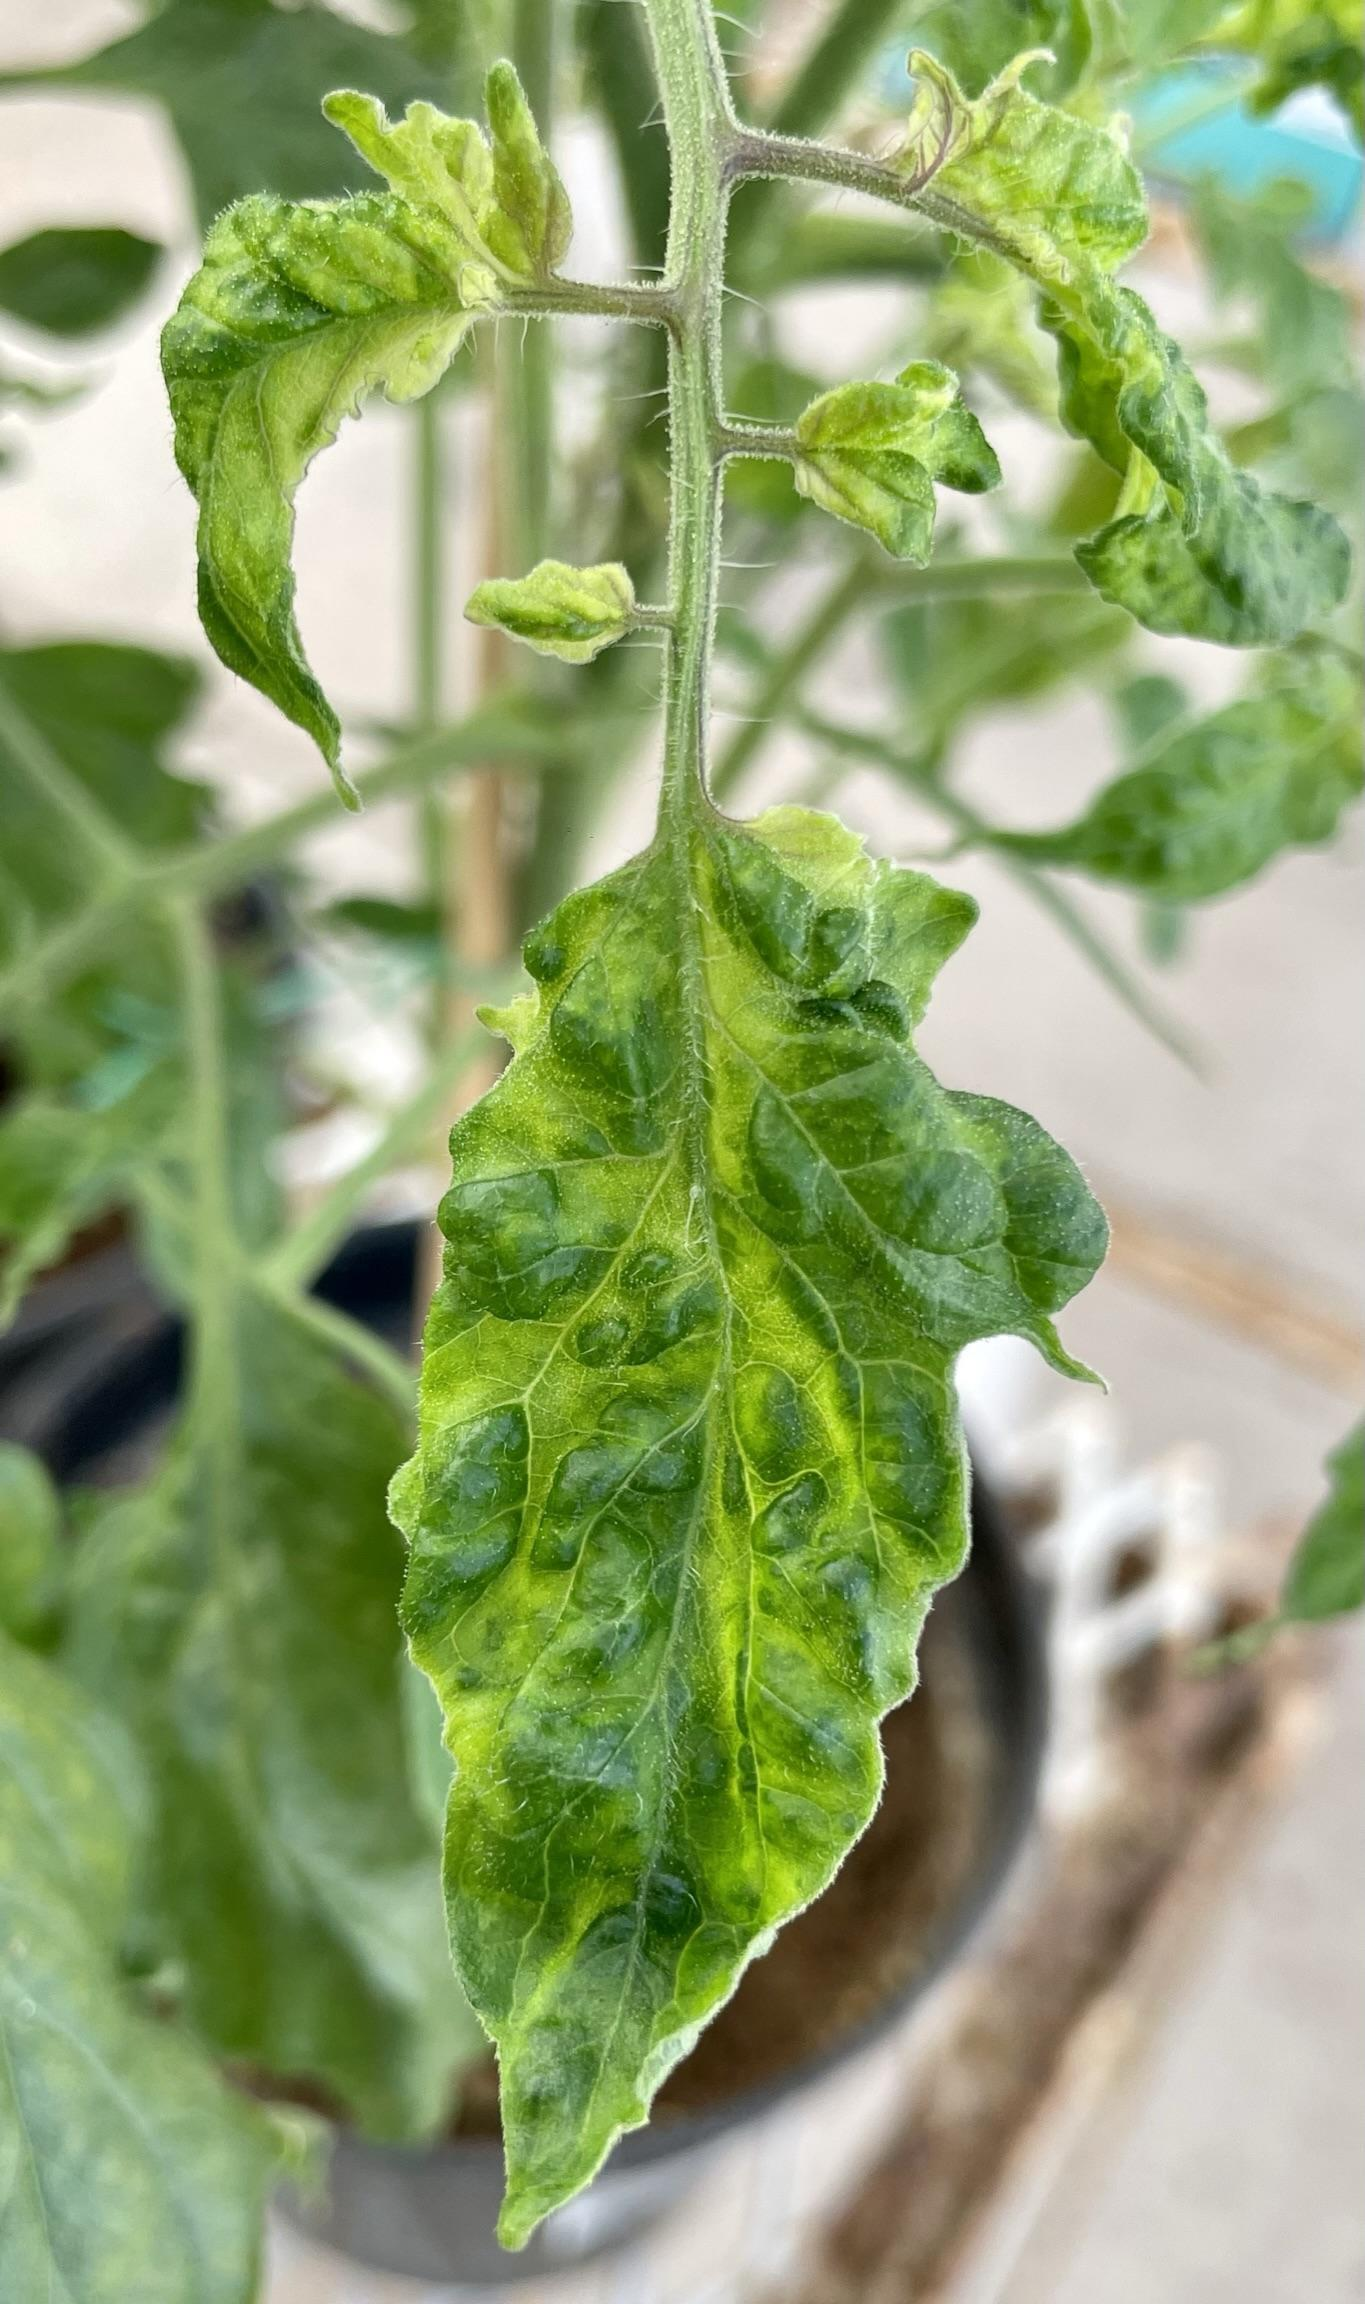Hoja rugoso: (387, 741, 1108, 2255), (154, 62, 570, 778), (1076, 346, 1350, 648), (887, 49, 1147, 279), (796, 361, 999, 562), (463, 557, 648, 661)
Pedunculo rugoso: (643, 0, 788, 832)
